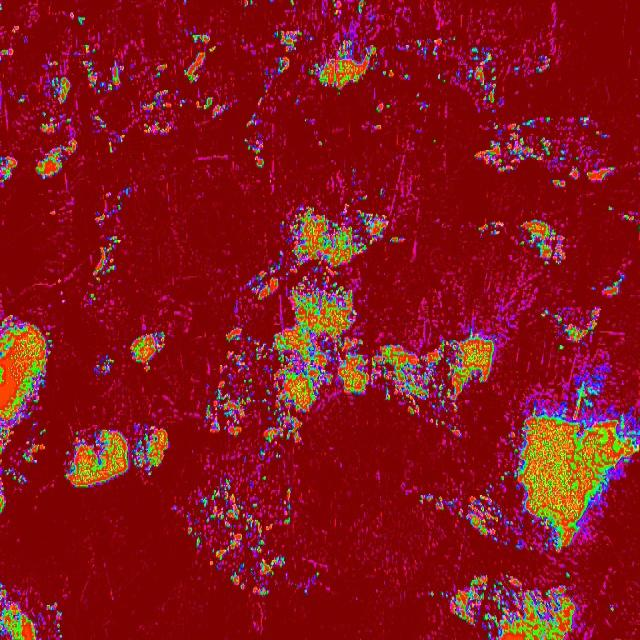fire: (203, 196, 498, 460), (508, 365, 638, 553), (170, 469, 291, 599), (0, 316, 54, 514), (473, 119, 618, 188), (446, 571, 582, 640), (308, 34, 379, 94), (62, 427, 131, 488), (456, 45, 506, 116), (467, 483, 508, 548), (537, 302, 602, 342), (518, 216, 564, 270), (0, 581, 41, 640), (130, 421, 167, 478), (34, 136, 80, 178), (130, 330, 170, 375), (185, 31, 219, 83), (94, 184, 134, 228), (393, 33, 458, 58), (92, 232, 121, 282), (82, 58, 122, 94), (415, 492, 465, 518), (94, 115, 125, 154), (36, 109, 72, 131), (138, 88, 172, 111), (46, 601, 66, 640), (243, 135, 267, 167), (259, 54, 290, 78), (272, 26, 304, 48), (601, 272, 625, 298), (198, 98, 227, 119), (50, 74, 70, 104), (92, 353, 116, 377), (300, 570, 321, 596), (0, 154, 18, 184), (532, 50, 552, 74), (141, 122, 172, 136), (624, 212, 640, 237), (244, 110, 262, 129), (256, 83, 272, 103), (372, 100, 393, 114), (414, 92, 428, 112), (152, 62, 166, 80), (81, 40, 98, 54), (329, 0, 343, 16), (348, 166, 359, 186), (43, 58, 63, 68), (435, 68, 446, 86), (300, 115, 316, 126), (356, 0, 367, 15), (18, 90, 28, 106), (0, 46, 12, 59), (240, 0, 256, 9), (178, 95, 188, 109), (380, 68, 394, 78), (292, 94, 302, 108), (556, 341, 566, 354), (500, 468, 508, 483), (76, 17, 87, 27), (372, 121, 384, 130), (512, 64, 522, 74), (89, 290, 98, 301), (402, 72, 411, 82), (317, 138, 326, 148), (378, 186, 386, 197), (290, 0, 299, 9), (428, 590, 436, 598), (610, 604, 616, 614), (0, 2, 5, 14), (432, 138, 438, 146), (440, 591, 446, 598), (606, 206, 614, 210), (182, 0, 190, 4), (268, 0, 274, 5)
